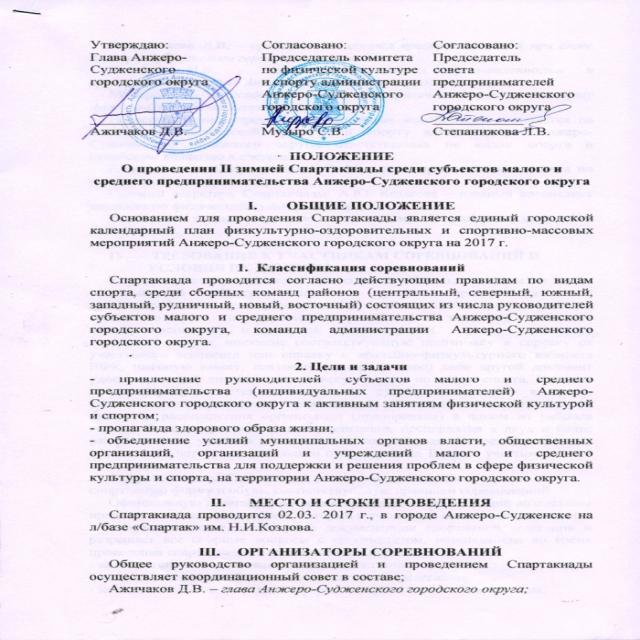stamps: (256, 56, 432, 154), (63, 61, 248, 151)
